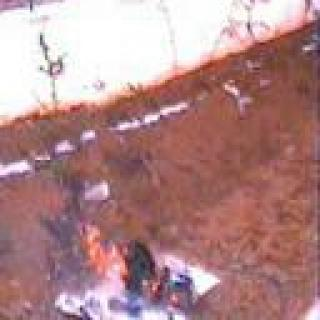fire: (82, 215, 190, 320)
